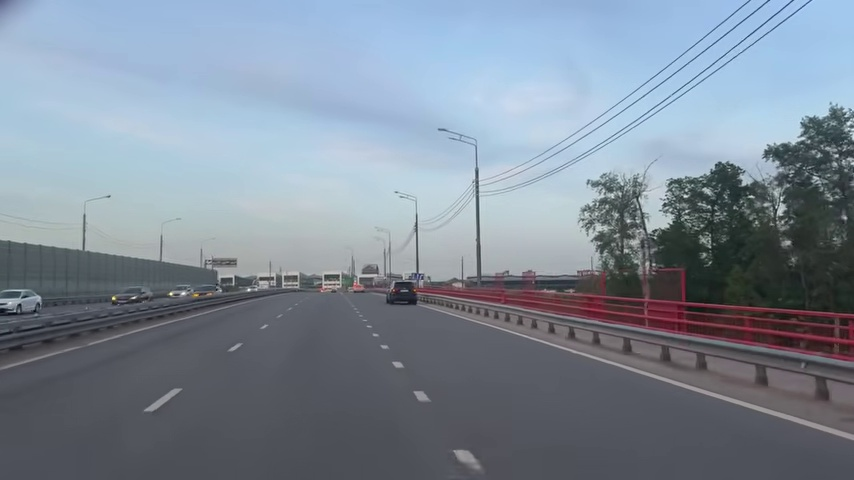apagada: (147, 386, 181, 415), (435, 124, 461, 146), (435, 123, 455, 141), (393, 188, 407, 202), (101, 189, 114, 203)
